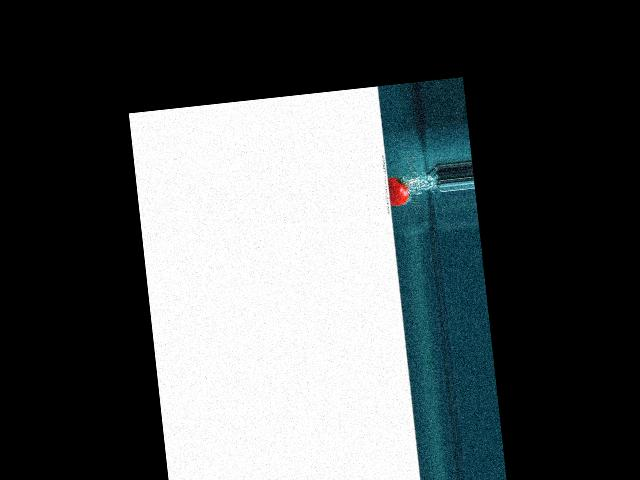tomato: (387, 175, 409, 206)
